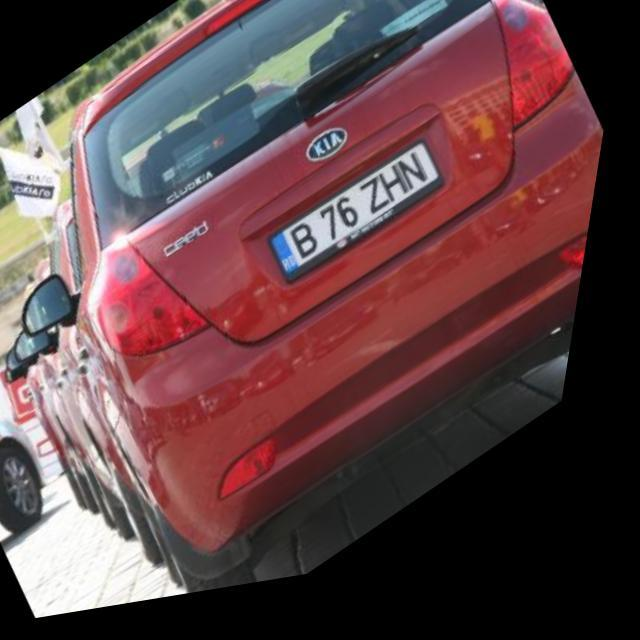license_plate: (268, 144, 461, 306)
